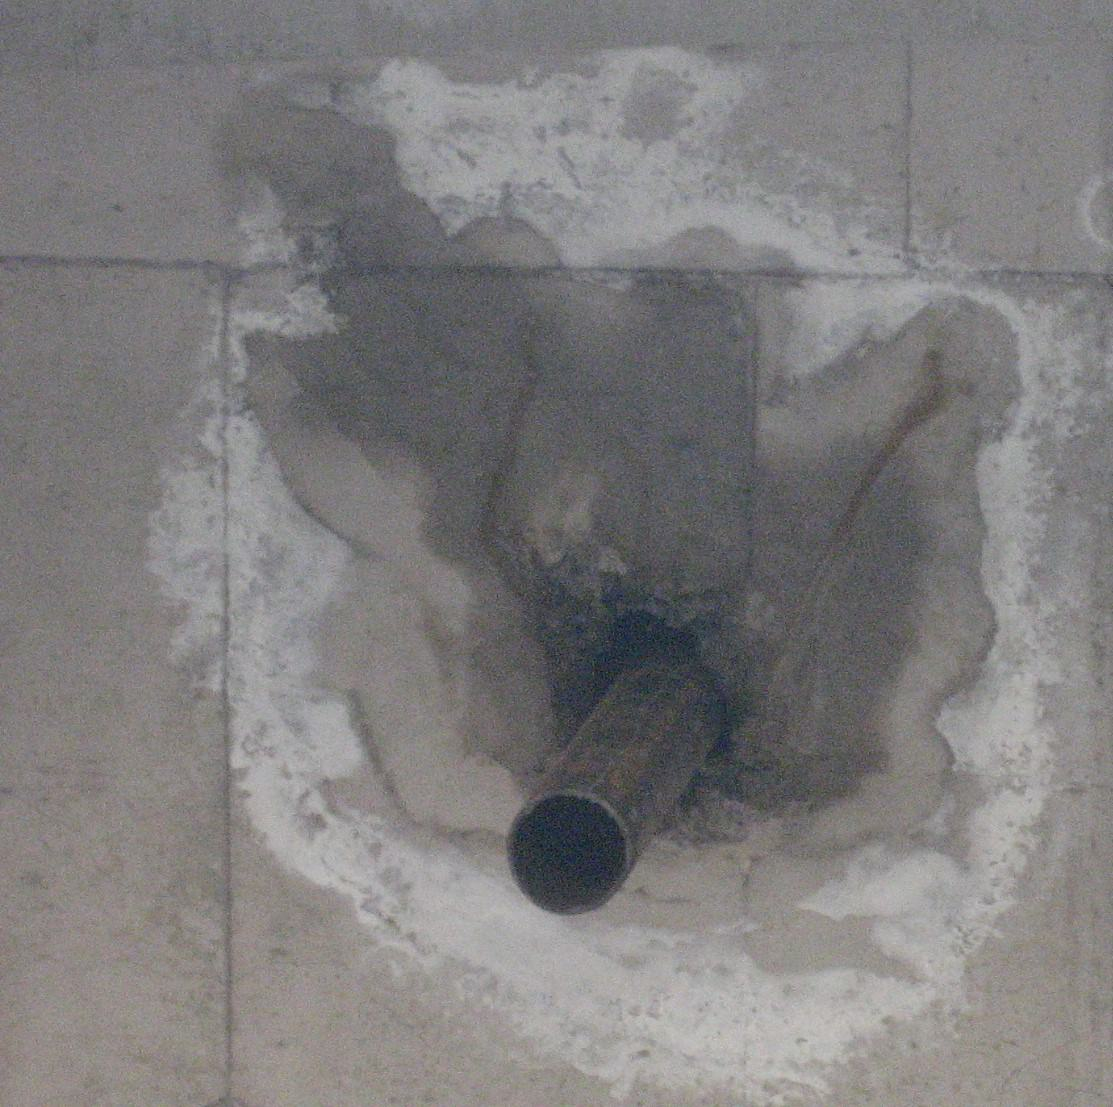Corrosion: (142, 41, 1084, 1107)
